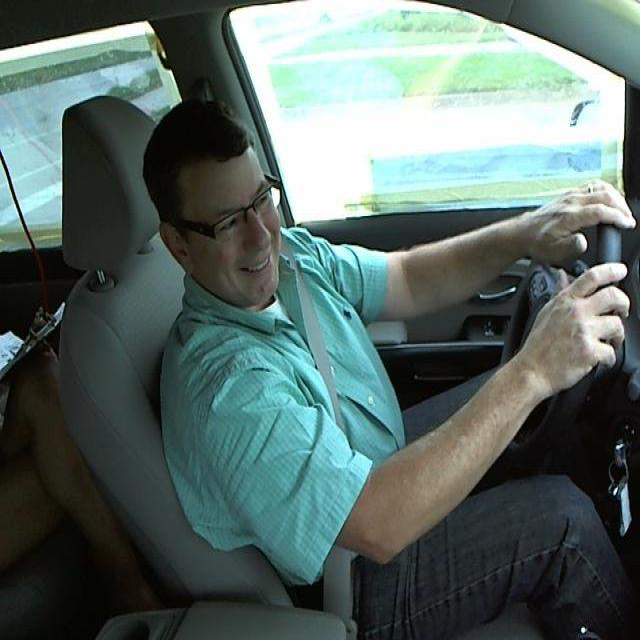seatbelt: (290, 293, 362, 616)
